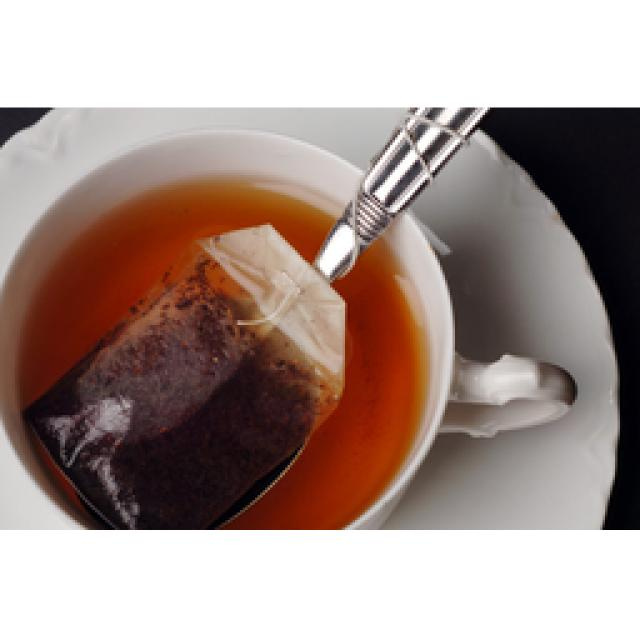tea-bags: (24, 225, 345, 528)
